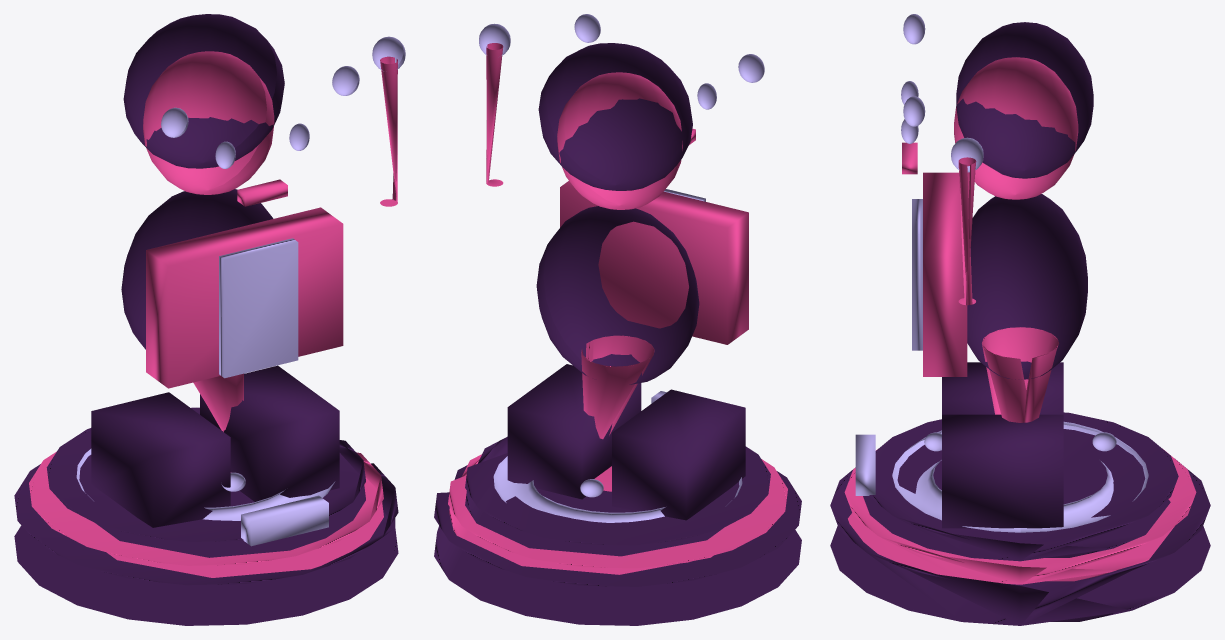
Rendered from idol_core.glb.
3 renders of one model, left to right at view 1: azimuth 30°, elevation 25°; view 2: azimuth 150°, elevation 25°; view 3: azimuth 270°, elevation 25°, orthographic. The views are drawn at different scales.
Parts seen in each view (by area): view 1: idol_core_#3D184F, idol_core_#EC4899, idol_core_#C4B5FD; view 2: idol_core_#3D184F, idol_core_#EC4899, idol_core_#C4B5FD; view 3: idol_core_#3D184F, idol_core_#EC4899, idol_core_#C4B5FD.
Part boxes in pixels (x1,y1,x2,y2): idol_core_#3D184F: (14, 14, 398, 625); idol_core_#EC4899: (29, 51, 397, 577); idol_core_#C4B5FD: (76, 36, 405, 546); idol_core_#3D184F: (434, 43, 801, 625); idol_core_#EC4899: (448, 43, 787, 574); idol_core_#C4B5FD: (479, 14, 764, 522); idol_core_#3D184F: (830, 22, 1210, 625); idol_core_#EC4899: (844, 57, 1196, 584); idol_core_#C4B5FD: (855, 14, 1148, 532).
Bounding box in the file's own units: 1.74 × 2.57 × 1.72.
